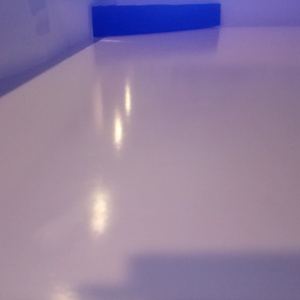zone: (91, 3, 221, 40)
